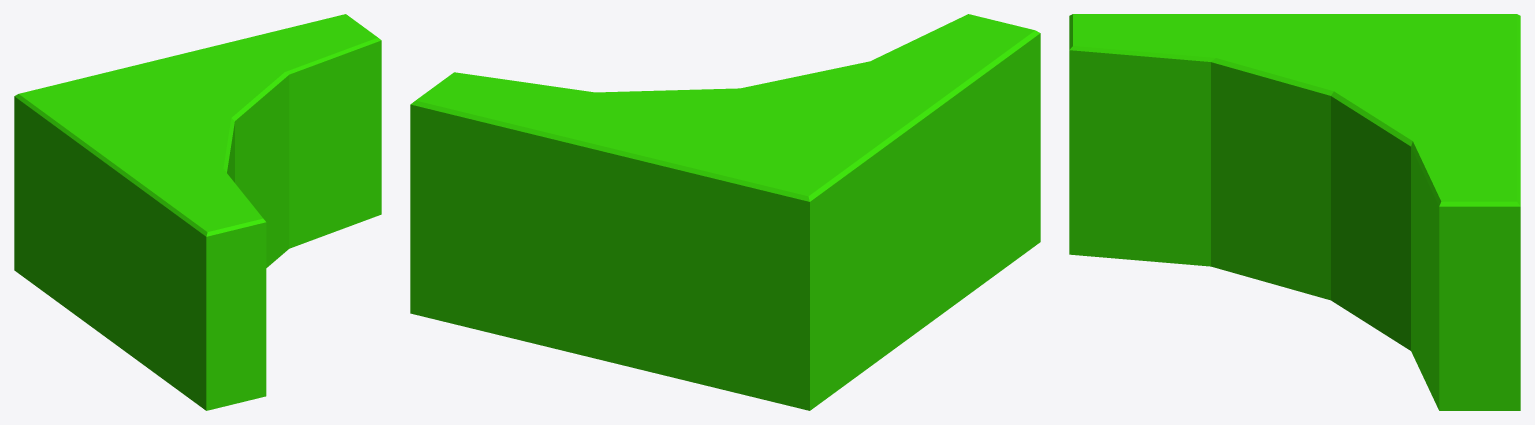
Rendered from round_5x3_04.fbx.
The picture shows the model from 3 angles, left to right: view 1: azimuth 30°, elevation 25°; view 2: azimuth 150°, elevation 25°; view 3: azimuth 270°, elevation 25°; orthographic projection. The views are drawn at different scales.
Parts seen in each view (by area): view 1: round_5x3_04; view 2: round_5x3_04; view 3: round_5x3_04.
Boxes of the visible parts, left/top/right/bottom form: round_5x3_04: left=14, top=14, right=381, bottom=410; round_5x3_04: left=410, top=14, right=1040, bottom=410; round_5x3_04: left=1069, top=14, right=1520, bottom=410.
Size of the model in its own units: 610 by 310 by 610.
